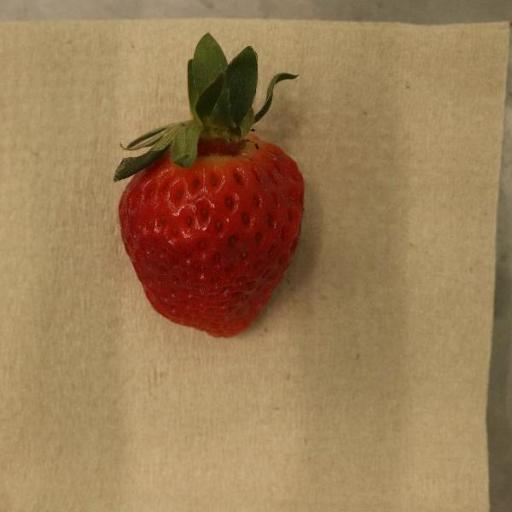Strawberry: (113, 33, 305, 339)
